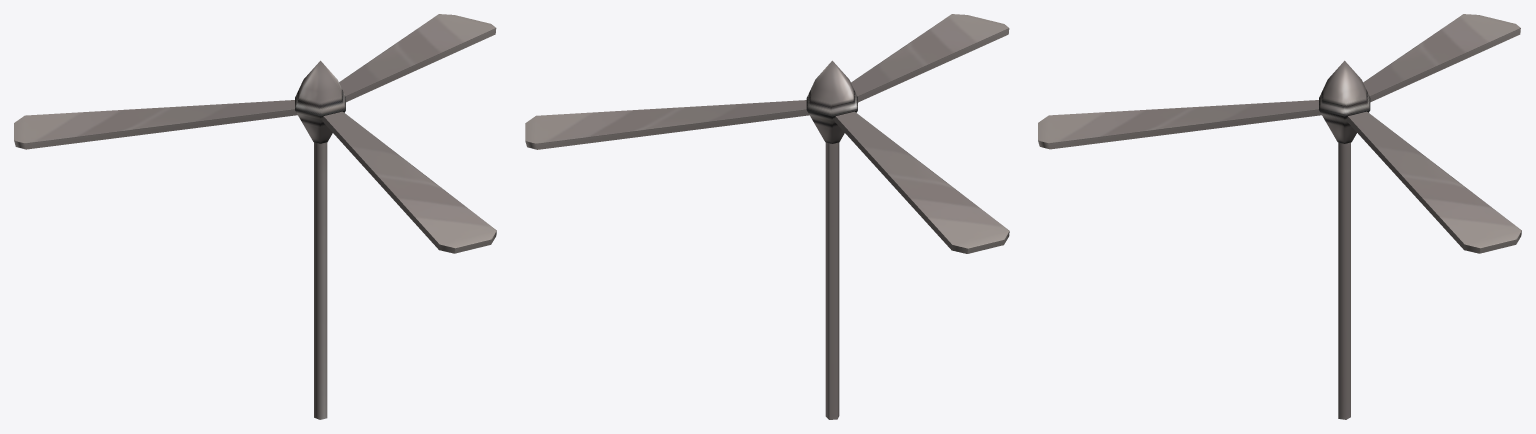
File: propeller2.fbx
3 renders of one model, left to right at view 1: azimuth 30°, elevation 25°; view 2: azimuth 150°, elevation 25°; view 3: azimuth 270°, elevation 25°, orthographic.
Parts seen in each view (by area): view 1: propeller1, propeller2, propeller3, propeller_shaft, propeller_top; view 2: propeller2, propeller3, propeller1, propeller_shaft, propeller_top; view 3: propeller3, propeller1, propeller2, propeller_shaft, propeller_top.
Part boxes in pixels (x1=…): propeller1: x1=322, y1=111, x2=496, y2=253; propeller2: x1=14, y1=100, x2=297, y2=149; propeller3: x1=339, y1=14, x2=496, y2=102; propeller_shaft: x1=314, y1=142, x2=327, y2=419; propeller_top: x1=295, y1=60, x2=345, y2=143; propeller2: x1=834, y1=111, x2=1009, y2=253; propeller3: x1=525, y1=100, x2=809, y2=149; propeller1: x1=851, y1=14, x2=1009, y2=102; propeller_shaft: x1=825, y1=142, x2=839, y2=419; propeller_top: x1=806, y1=60, x2=857, y2=143; propeller3: x1=1346, y1=111, x2=1521, y2=253; propeller1: x1=1038, y1=100, x2=1321, y2=149; propeller2: x1=1363, y1=14, x2=1520, y2=102; propeller_shaft: x1=1338, y1=142, x2=1350, y2=419; propeller_top: x1=1319, y1=60, x2=1370, y2=143.
Bounding box in the file's own units: 127 × 90.65 × 111.
